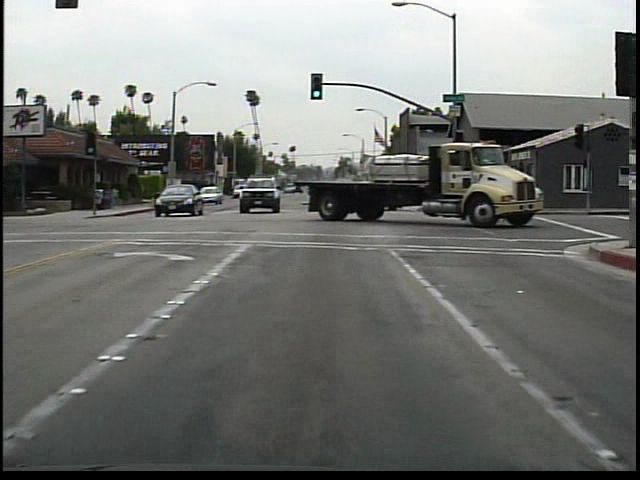person: (179, 182, 196, 206)
